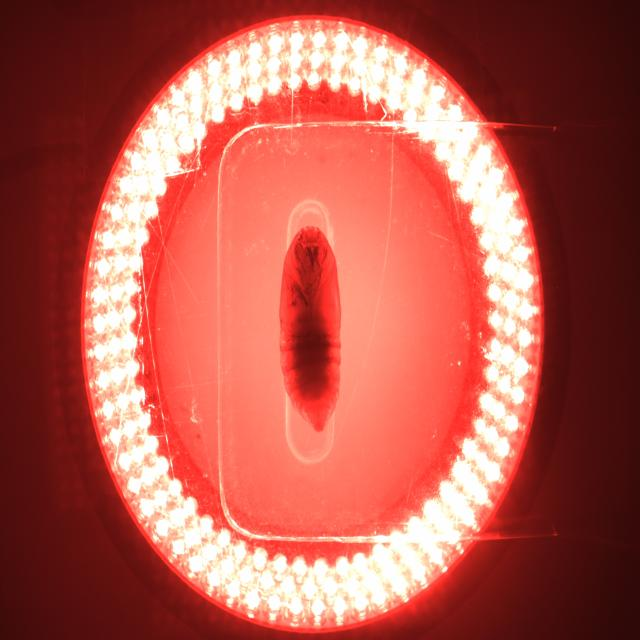female: (309, 408, 325, 418)
